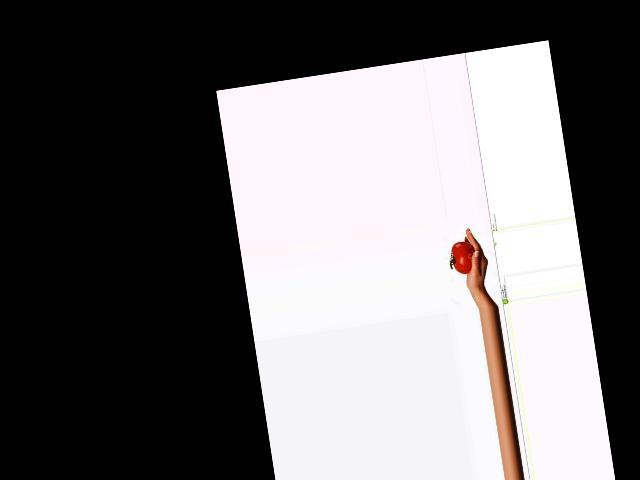tomato: (450, 239, 477, 275)
